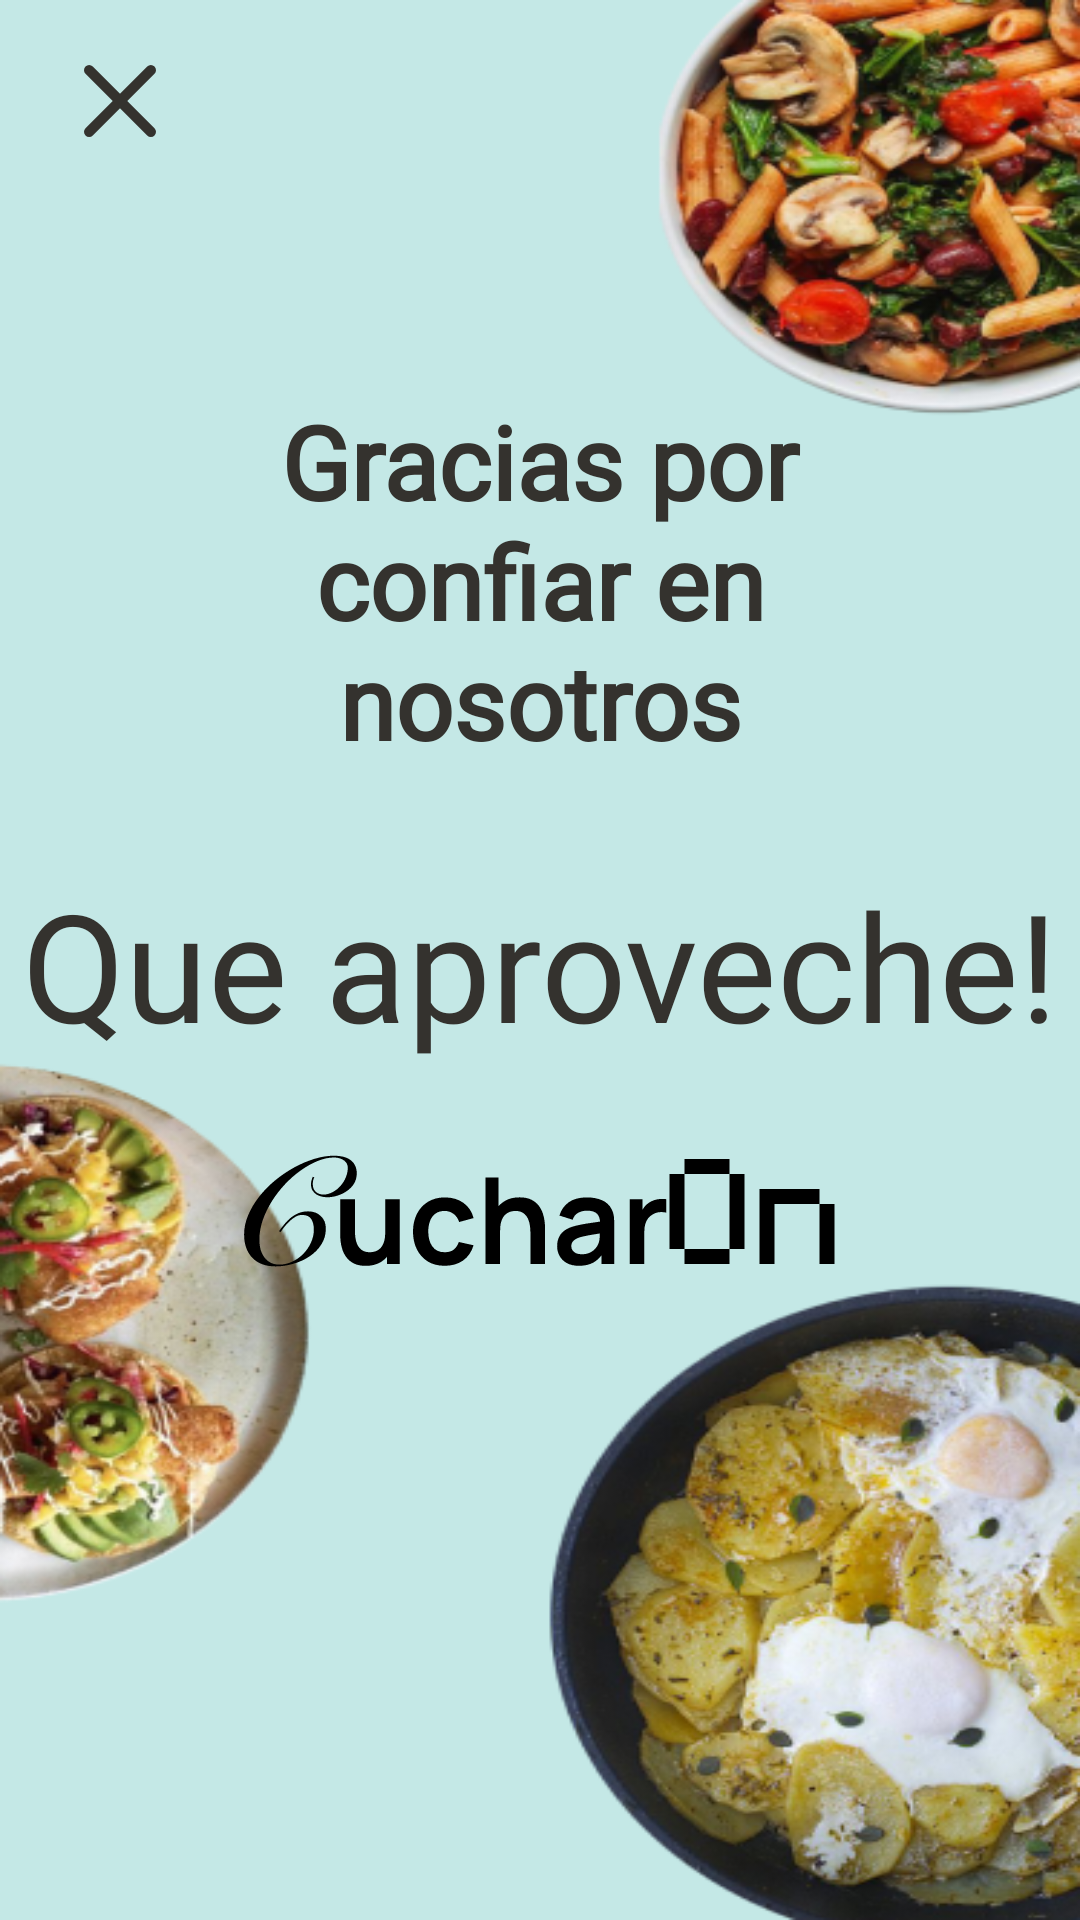

Named icons in this screenshot (1080 x 1920) and their bounding boxes, [left=x1, top=y1, right=x2, bottom=y2]:
cerrar: [left=84, top=65, right=156, bottom=137]
